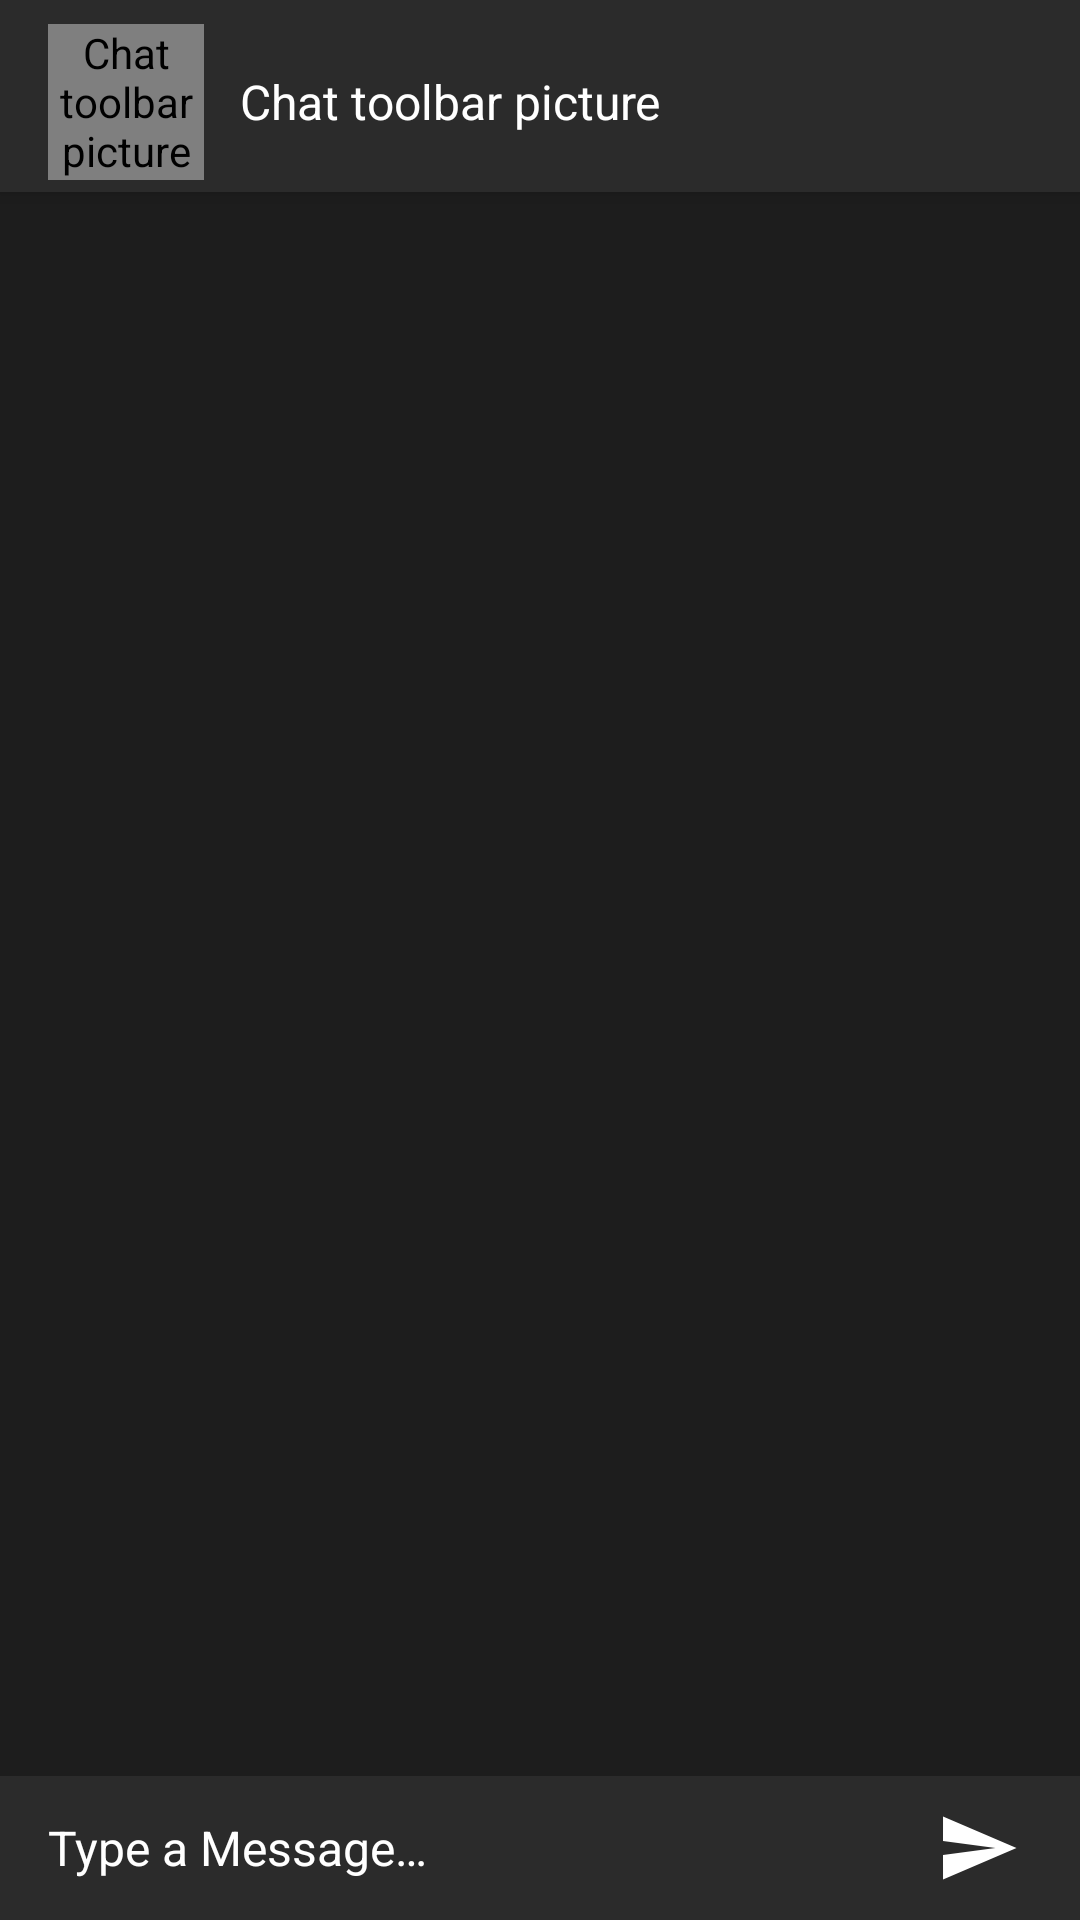

Screen size 1080*1920. Icon name, then its center in pixels as point (x, y):
Button user presses to send message: point (979, 1848)
